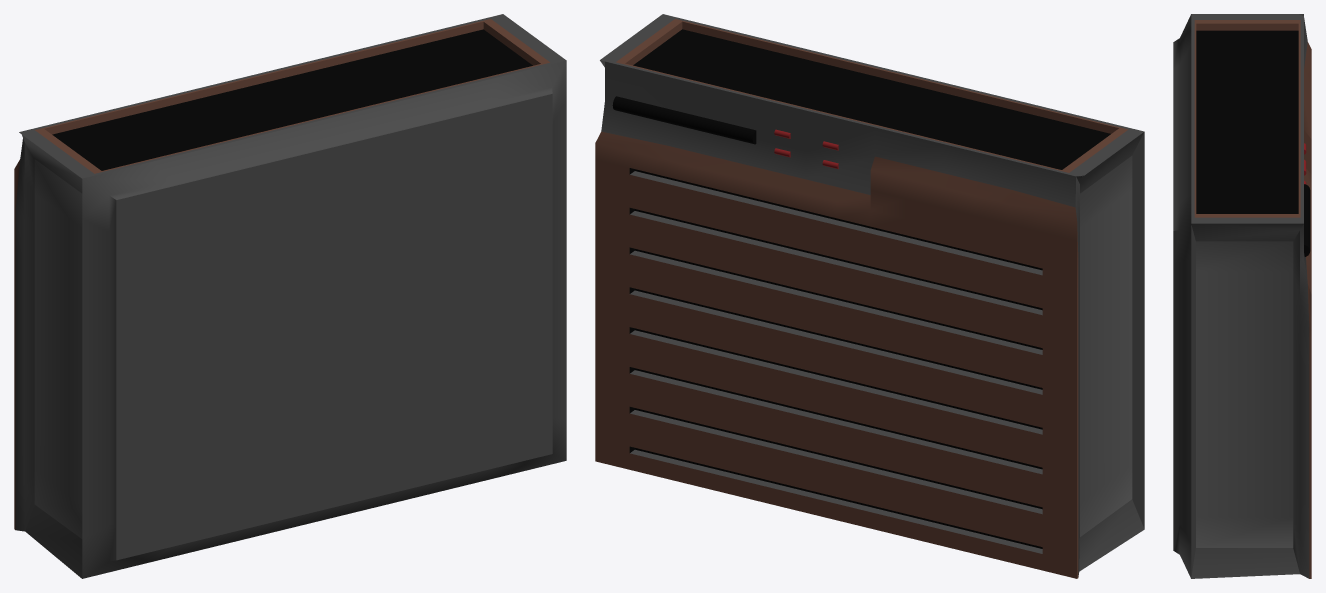
File: Alarm_Clock_V1.fbx
3 views of the same model, side by side, from view 1: azimuth 30°, elevation 25°; view 2: azimuth 150°, elevation 25°; view 3: azimuth 270°, elevation 25° (orthographic). The views are drawn at different scales.
Visible parts, largest first — view 1: Cube; view 2: Cube; view 3: Cube.
Part boxes in pixels (<box>): Cube: <box>14,14,566,578</box>; Cube: <box>595,14,1144,578</box>; Cube: <box>1173,14,1311,578</box>.
Size of the model in its own units: 380 by 300 by 106.
